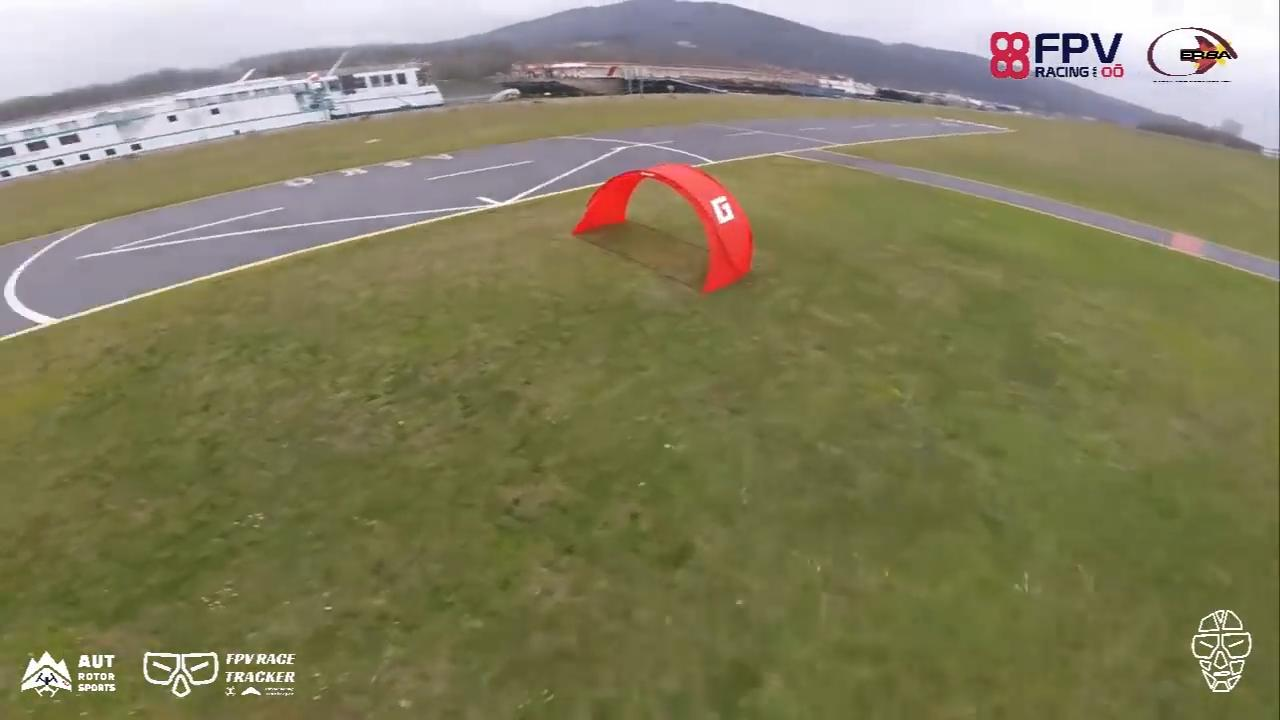gate: (572, 160, 753, 297)
